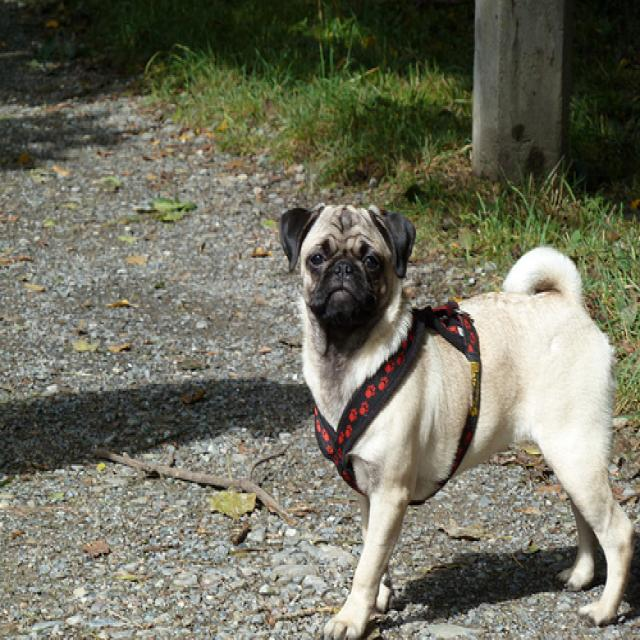dog-pug: (268, 193, 637, 637)
